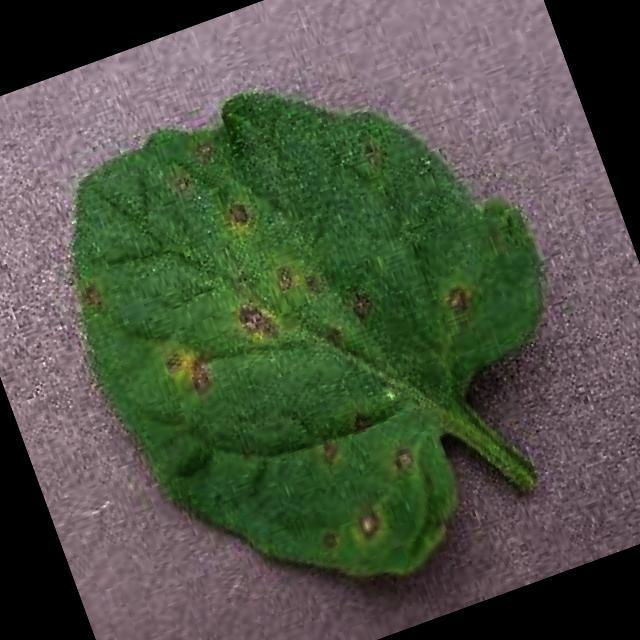Tomato Septoria spot leaf: (26, 18, 625, 640)
